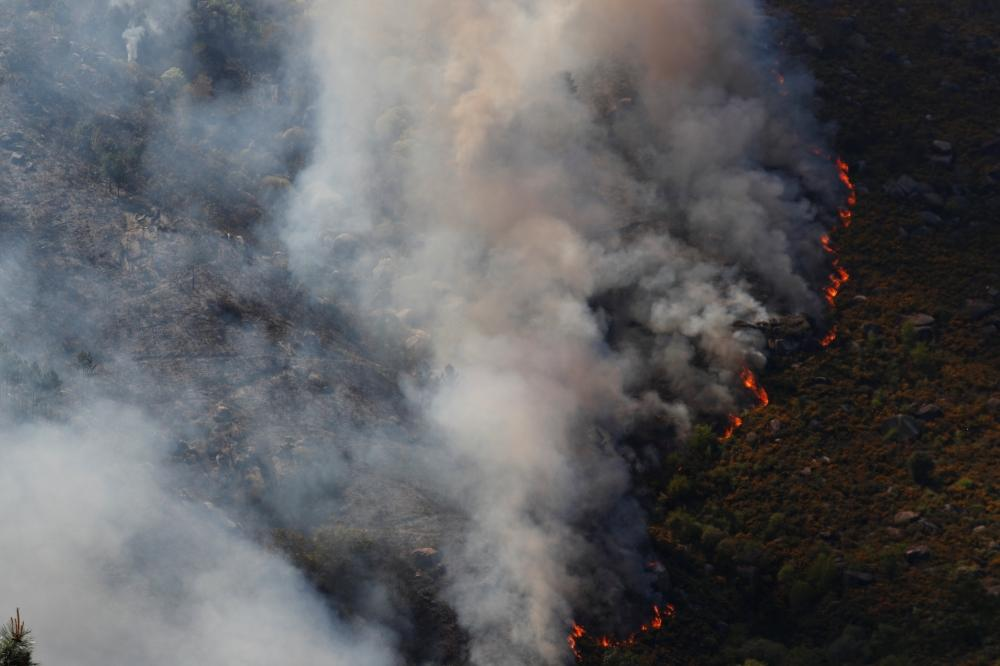smoke: (375, 13, 733, 298)
